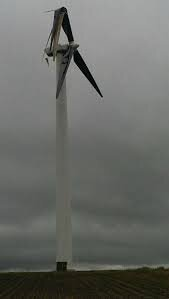faulty: (39, 4, 108, 114)
